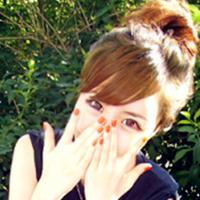face: (66, 75, 155, 174)
